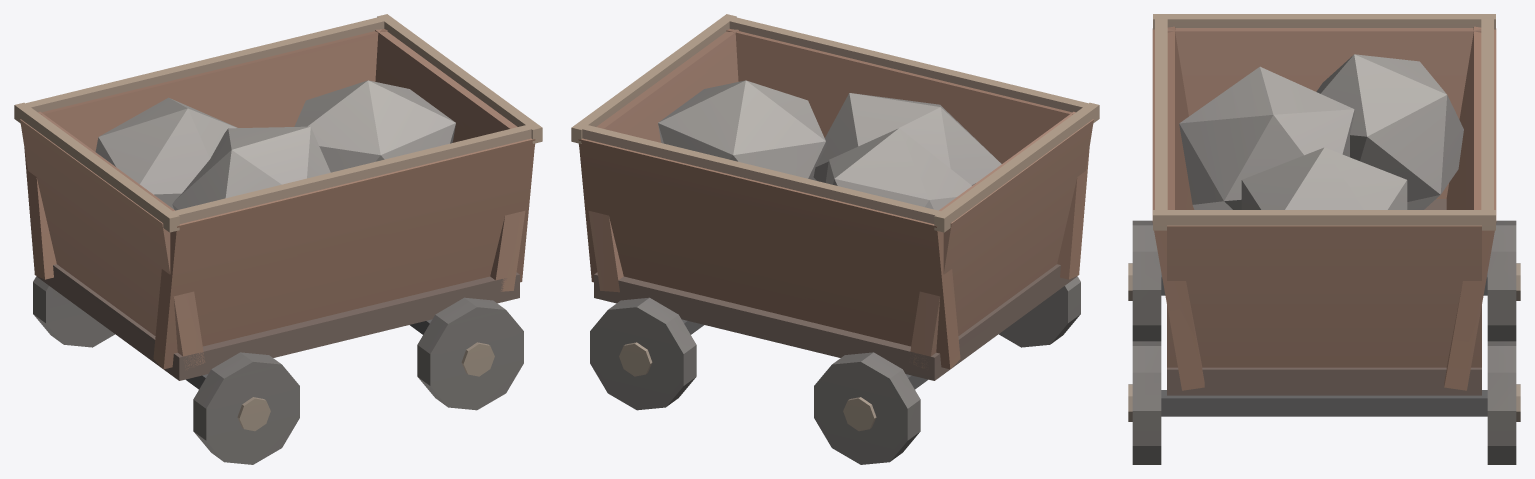
Rendered from BM_Minecart.glb.
3 renders of one model, left to right at view 1: azimuth 30°, elevation 25°; view 2: azimuth 150°, elevation 25°; view 3: azimuth 270°, elevation 25°, orthographic. The views are drawn at different scales.
Parts seen in each view (by area): view 1: Body; view 2: Body; view 3: Body.
Boxes of the visible parts, bbox=[...] form: Body: bbox=[14, 14, 542, 464]; Body: bbox=[571, 14, 1099, 464]; Body: bbox=[1128, 14, 1520, 464].
Size of the model in its own units: 8.36 by 5.86 by 6.86.
